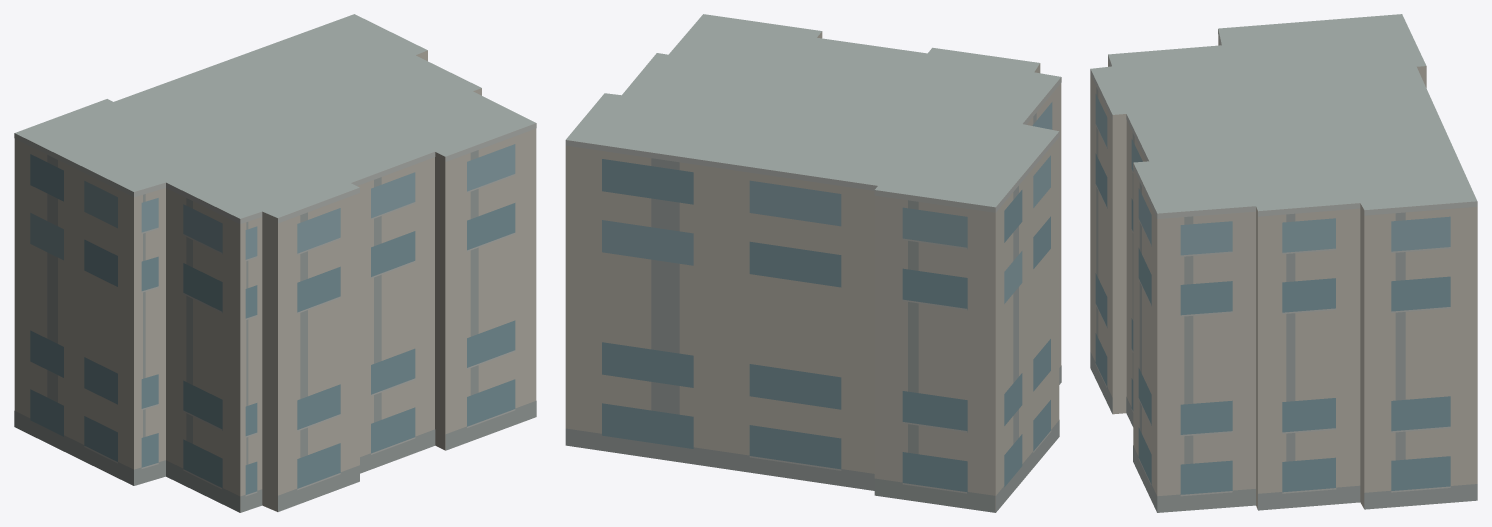
The model's file is survey-upis-33023376.glb.
3 views of the same model, side by side, from view 1: azimuth 30°, elevation 25°; view 2: azimuth 150°, elevation 25°; view 3: azimuth 270°, elevation 25° (orthographic). The views are drawn at different scales.
Visible parts, largest first — view 1: survey-upis-33023376.tmp; view 2: survey-upis-33023376.tmp; view 3: survey-upis-33023376.tmp.
Part boxes in pixels (<box>): survey-upis-33023376.tmp: <box>14,14,536,512</box>; survey-upis-33023376.tmp: <box>565,14,1061,512</box>; survey-upis-33023376.tmp: <box>1090,14,1477,512</box>.
Bounding box in the file's own units: 19.03 × 13.3 × 15.6.
